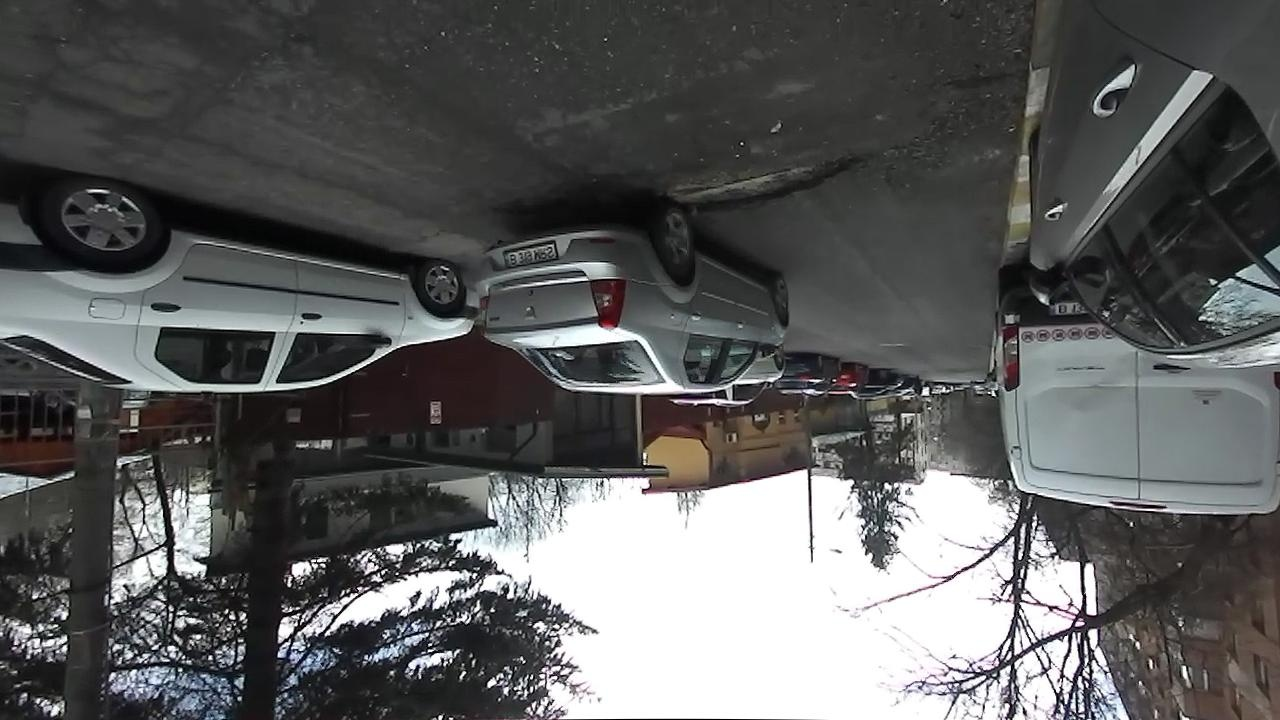pothole: (657, 151, 870, 209), (485, 190, 562, 216)
